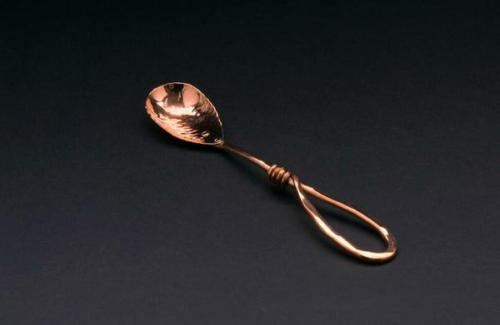Spoon: (143, 81, 400, 264)
